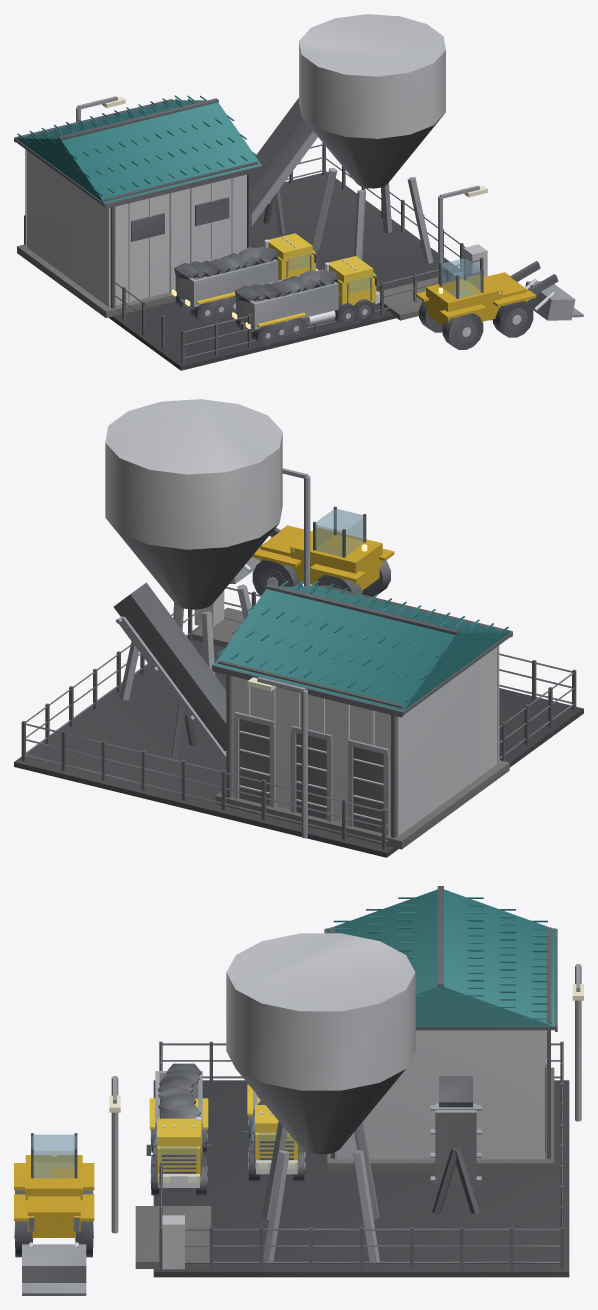
Rendered from Haul_P3.fbx.
3 renders of one model, top to bottom at view 1: azimuth 30°, elevation 25°; view 2: azimuth 150°, elevation 25°; view 3: azimuth 270°, elevation 25°, orthographic. The views are drawn at different scales.
Visible parts, largest first — view 1: Haul.Workshop, Haul.Hopper, Haul.Yard, Haul.Loader, Haul.Parked1, Haul.Parked0, Haul.Conv, Haul.Fence, Haul.Weighbridge, Haul.Lamp0; view 2: Haul.Workshop, Haul.Hopper, Haul.Yard, Haul.Conv, Haul.Loader, Haul.Fence, Haul.Lamp1, Haul.Weighbridge, Haul.Lamp0; view 3: Haul.Workshop, Haul.Yard, Haul.Hopper, Haul.Loader, Haul.Parked1, Haul.Fence, Haul.Conv, Haul.Weighbridge, Haul.Parked0, Haul.Lamp0, Haul.Lamp1.
Boxes of the visible parts, bbox=[...] form: Haul.Workshop: bbox=[14, 95, 263, 317]; Haul.Hopper: bbox=[299, 14, 445, 263]; Haul.Yard: bbox=[109, 172, 459, 370]; Haul.Loader: bbox=[416, 256, 583, 349]; Haul.Parked1: bbox=[232, 256, 379, 346]; Haul.Parked0: bbox=[171, 233, 318, 323]; Haul.Conv: bbox=[251, 98, 317, 234]; Haul.Fence: bbox=[24, 142, 483, 363]; Haul.Weighbridge: bbox=[378, 244, 487, 320]; Haul.Lamp0: bbox=[438, 185, 487, 283]; Haul.Workshop: bbox=[212, 580, 512, 849]; Haul.Hopper: bbox=[105, 399, 282, 700]; Haul.Yard: bbox=[14, 626, 583, 857]; Haul.Conv: bbox=[113, 582, 226, 769]; Haul.Loader: bbox=[229, 506, 394, 596]; Haul.Fence: bbox=[21, 587, 576, 849]; Haul.Lamp1: bbox=[247, 677, 307, 838]; Haul.Weighbridge: bbox=[191, 590, 244, 647]; Haul.Lamp0: bbox=[282, 468, 310, 586]; Haul.Workshop: bbox=[324, 886, 557, 1171]; Haul.Yard: bbox=[153, 1080, 569, 1277]; Haul.Hopper: bbox=[226, 933, 415, 1264]; Haul.Loader: bbox=[14, 1133, 94, 1295]; Haul.Parked1: bbox=[146, 1063, 211, 1195]; Haul.Fence: bbox=[159, 1041, 563, 1269]; Haul.Conv: bbox=[430, 1076, 481, 1213]; Haul.Weighbridge: bbox=[135, 1206, 211, 1269]; Haul.Parked0: bbox=[244, 1084, 305, 1181]; Haul.Lamp0: bbox=[109, 1076, 120, 1233]; Haul.Lamp1: bbox=[572, 964, 583, 1121].
Bounding box in the file's own units: 2799 × 1598 × 3015.
